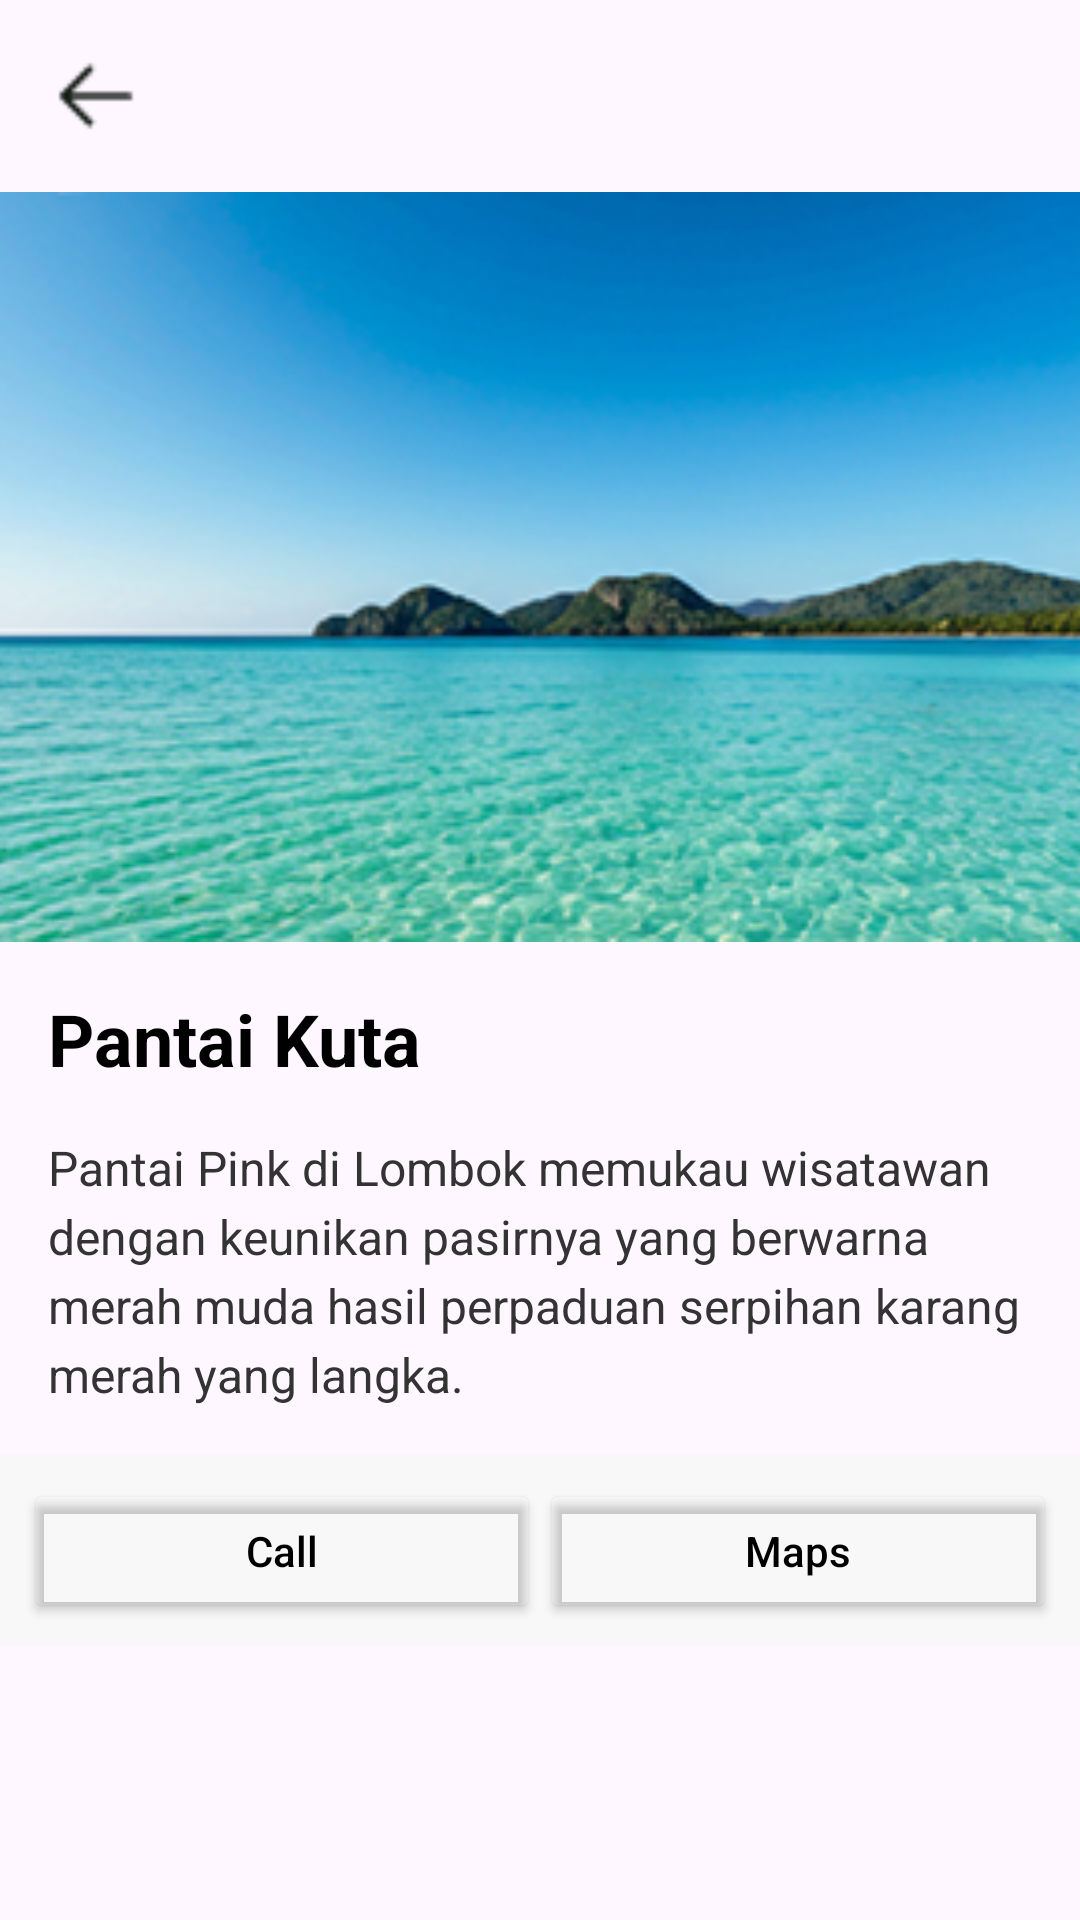

Icons on this 1080w x 1920h Android screen, each with the point to tap as (x,y):
kembali: (96,96)
